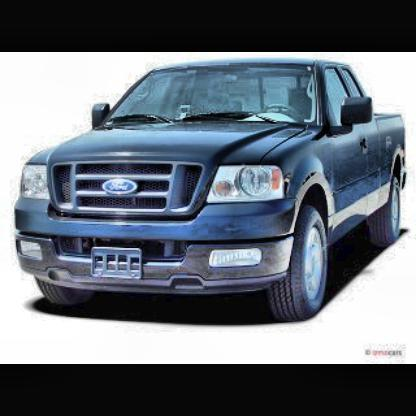Ford F-150 Regular Cab 2007: (16, 61, 408, 315)
